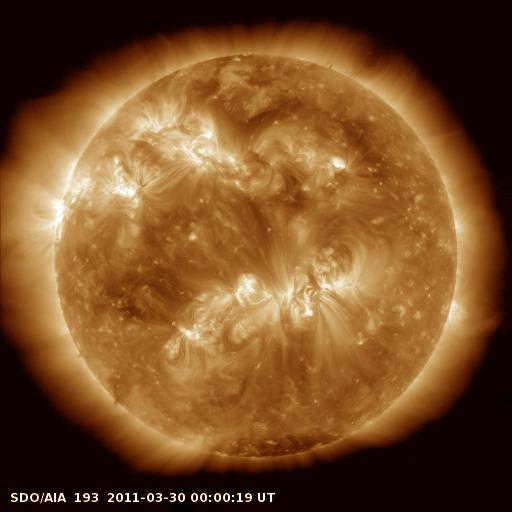coronal_hole: (205, 424, 344, 461)
